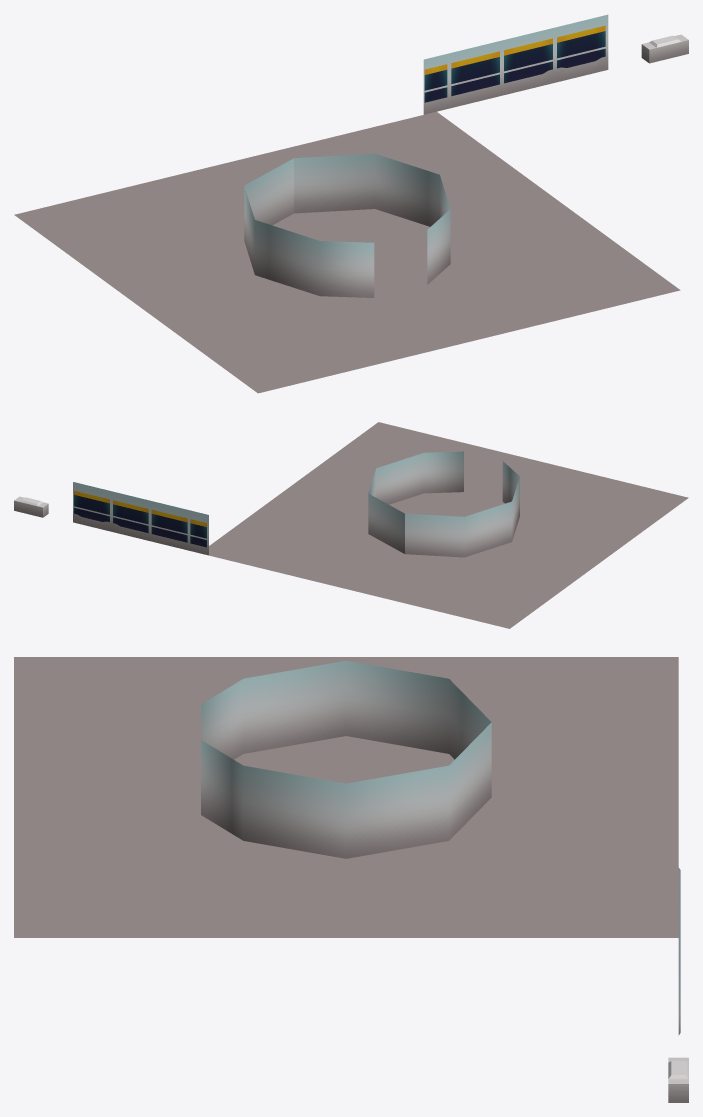
The model's file is scifi.fbx.
The picture shows the model from 3 angles, top to bottom: view 1: azimuth 30°, elevation 25°; view 2: azimuth 150°, elevation 25°; view 3: azimuth 270°, elevation 25°; orthographic projection. The views are drawn at different scales.
Visible parts, largest first — view 1: floor_tile, circle_wall, 1x4_wall_3, 1x4_wall_2, 1x4_wall, 1x2_wall, barrior; view 2: floor_tile, circle_wall, 1x4_wall, 1x4_wall_3, 1x4_wall_2, 1x2_wall, barrior; view 3: floor_tile, circle_wall, barrior.
Part boxes in pixels (x1=…): floor_tile: x1=14, y1=111, x2=680, y2=393; circle_wall: x1=244, y1=153, x2=450, y2=297; 1x4_wall_3: x1=555, y1=14, x2=608, y2=82; 1x4_wall_2: x1=502, y1=27, x2=555, y2=95; 1x4_wall: x1=450, y1=40, x2=502, y2=108; 1x2_wall: x1=423, y1=53, x2=449, y2=114; barrior: x1=641, y1=34, x2=688, y2=63; floor_tile: x1=209, y1=422, x2=688, y2=628; circle_wall: x1=368, y1=451, x2=519, y2=557; 1x4_wall: x1=150, y1=501, x2=189, y2=550; 1x4_wall_3: x1=73, y1=482, x2=111, y2=531; 1x4_wall_2: x1=112, y1=491, x2=150, y2=541; 1x2_wall: x1=189, y1=510, x2=208, y2=555; barrior: x1=14, y1=496, x2=48, y2=517; floor_tile: x1=14, y1=657, x2=678, y2=937; circle_wall: x1=201, y1=660, x2=491, y2=858; barrior: x1=668, y1=1057, x2=688, y2=1102.
Bounding box in the file's own units: 5081 × 400 × 3250.
1 material, 1 textured.
